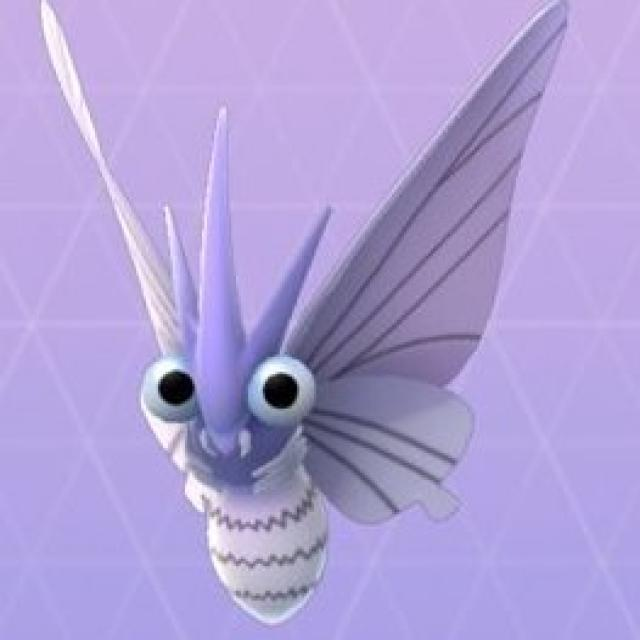Venomoth: (88, 125, 415, 617)
